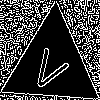V: (27, 39, 75, 96)
